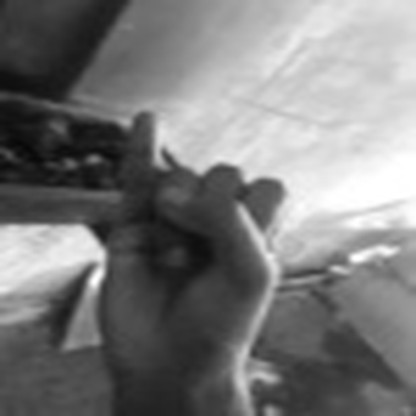i: (98, 110, 288, 381)
